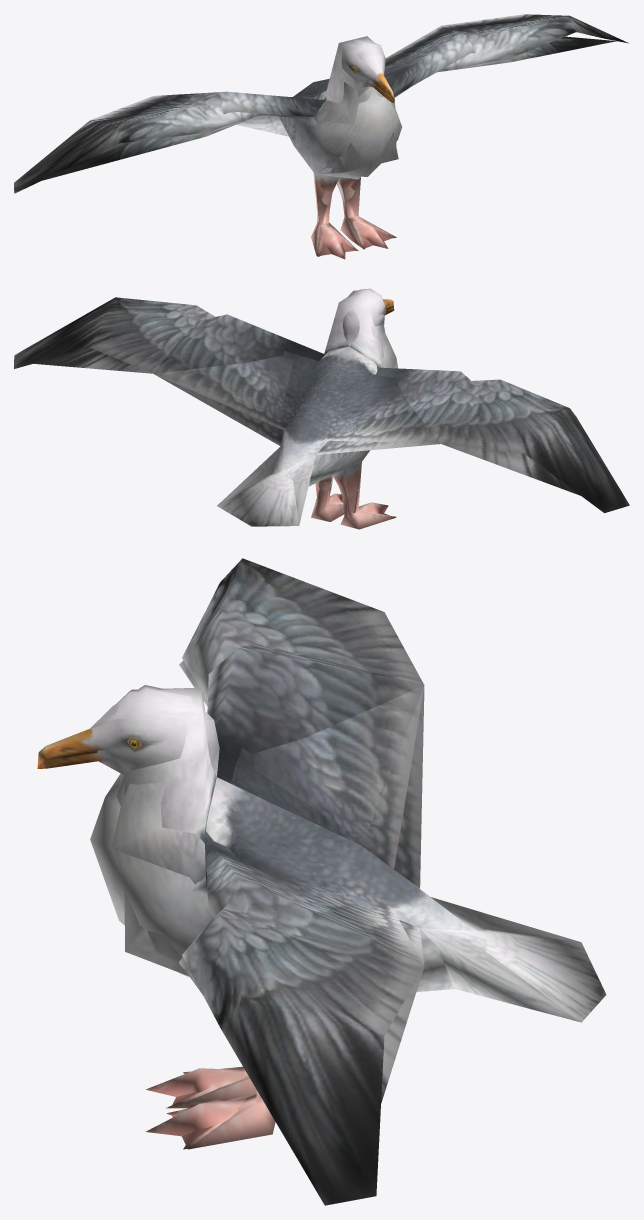
The model's file is gull.obj.
The picture shows the model from 3 angles, top to bottom: view 1: azimuth 30°, elevation 25°; view 2: azimuth 150°, elevation 25°; view 3: azimuth 270°, elevation 25°; orthographic projection. The views are drawn at different scales.
Parts seen in each view (by area): view 1: Editable_Mesh, Editable_Mesh.001, Editable_Mesh.002; view 2: Editable_Mesh, Editable_Mesh.001, Editable_Mesh.002; view 3: Editable_Mesh, Editable_Mesh.001, Editable_Mesh.002.
Part boxes in pixels (<box>): Editable_Mesh: <box>14,14,628,259</box>; Editable_Mesh.001: <box>154,25,481,255</box>; Editable_Mesh.002: <box>42,27,616,255</box>; Editable_Mesh: <box>14,289,629,529</box>; Editable_Mesh.001: <box>153,288,481,526</box>; Editable_Mesh.002: <box>33,289,580,529</box>; Editable_Mesh: <box>37,558,474,1205</box>; Editable_Mesh.001: <box>38,643,580,1149</box>; Editable_Mesh.002: <box>90,660,606,1149</box>.
Size of the model in its own units: 2.56 by 0.8379 by 1.03.
Materials: 3 (3 with a texture image).
